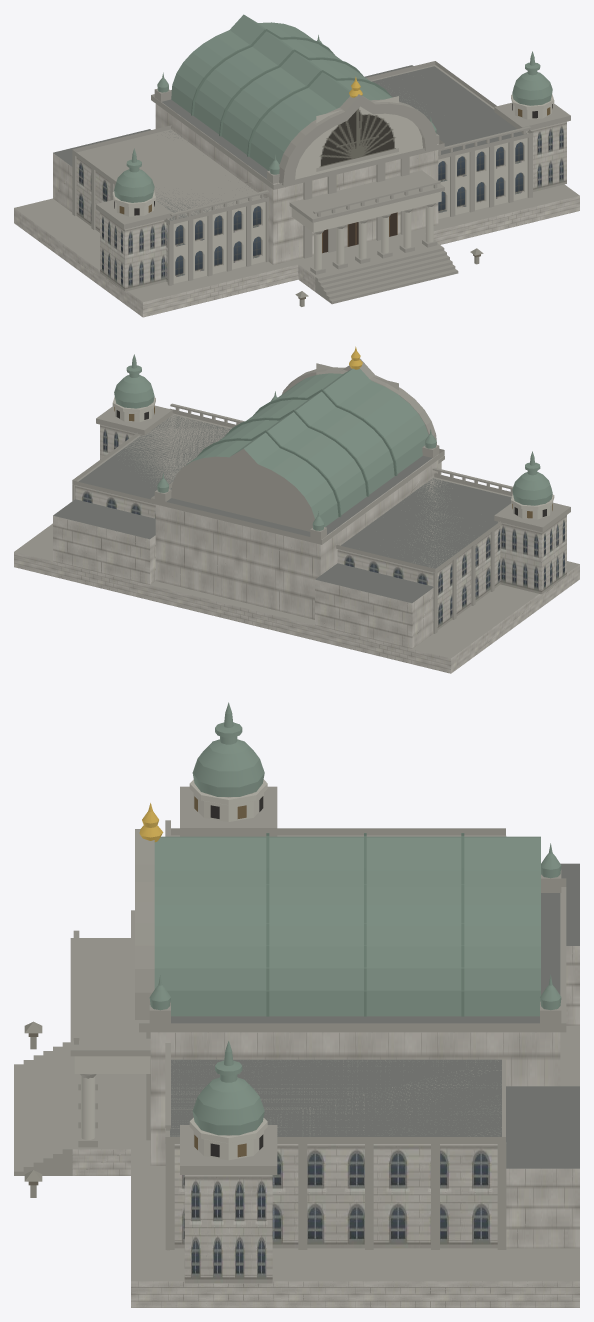
The model's file is tsukiji_honganji.glb.
The picture shows the model from 3 angles, top to bottom: view 1: azimuth 30°, elevation 25°; view 2: azimuth 150°, elevation 25°; view 3: azimuth 270°, elevation 25°; orthographic projection. The views are drawn at different scales.
Parts seen in each view (by area): view 1: tsukiji_honganji; view 2: tsukiji_honganji; view 3: tsukiji_honganji.
Part boxes in pixels (x1,y1,x2,y2): tsukiji_honganji: (14, 14, 579, 317); tsukiji_honganji: (14, 346, 579, 673); tsukiji_honganji: (14, 702, 579, 1307).
Size of the model in its own units: 92 by 36.2 by 58.
Materials: 2 (2 with a texture image).
